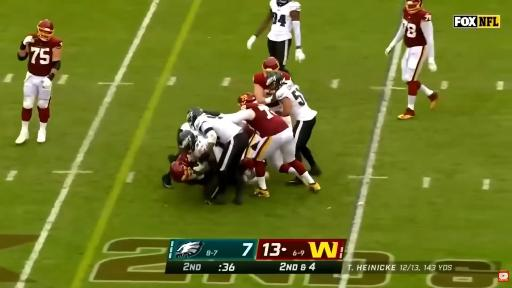Helmet: (178, 130, 197, 151), (171, 162, 191, 181), (37, 20, 54, 41), (267, 72, 285, 90), (187, 108, 203, 126), (263, 57, 279, 73), (238, 93, 256, 106), (406, 0, 422, 14), (277, 0, 290, 6)
Jersey: (242, 104, 288, 137), (276, 83, 317, 120), (28, 34, 62, 76), (194, 114, 242, 143), (268, 0, 301, 41), (403, 8, 431, 47), (192, 136, 208, 160), (253, 72, 268, 89), (179, 123, 198, 136)
Player: (227, 98, 320, 196), (386, 0, 438, 119), (187, 108, 248, 204), (16, 20, 62, 143), (267, 73, 321, 175), (247, 0, 305, 72), (162, 153, 209, 187), (253, 57, 281, 111), (180, 128, 207, 162), (243, 126, 261, 174)
